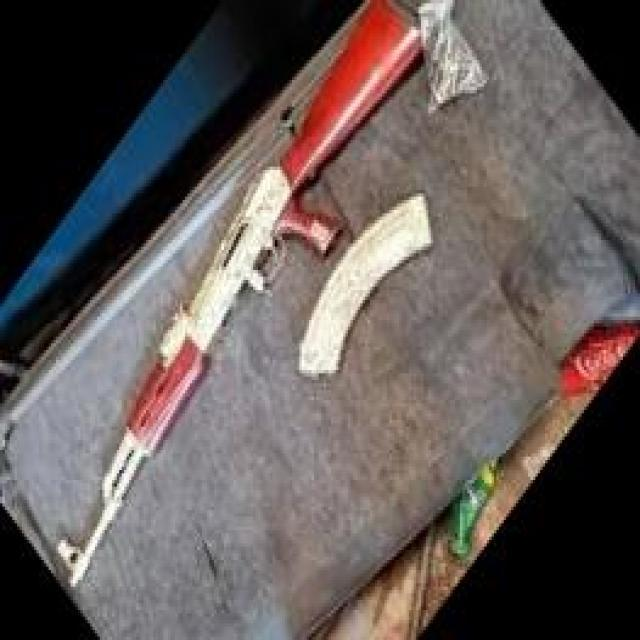Rifle: (54, 0, 440, 590)
